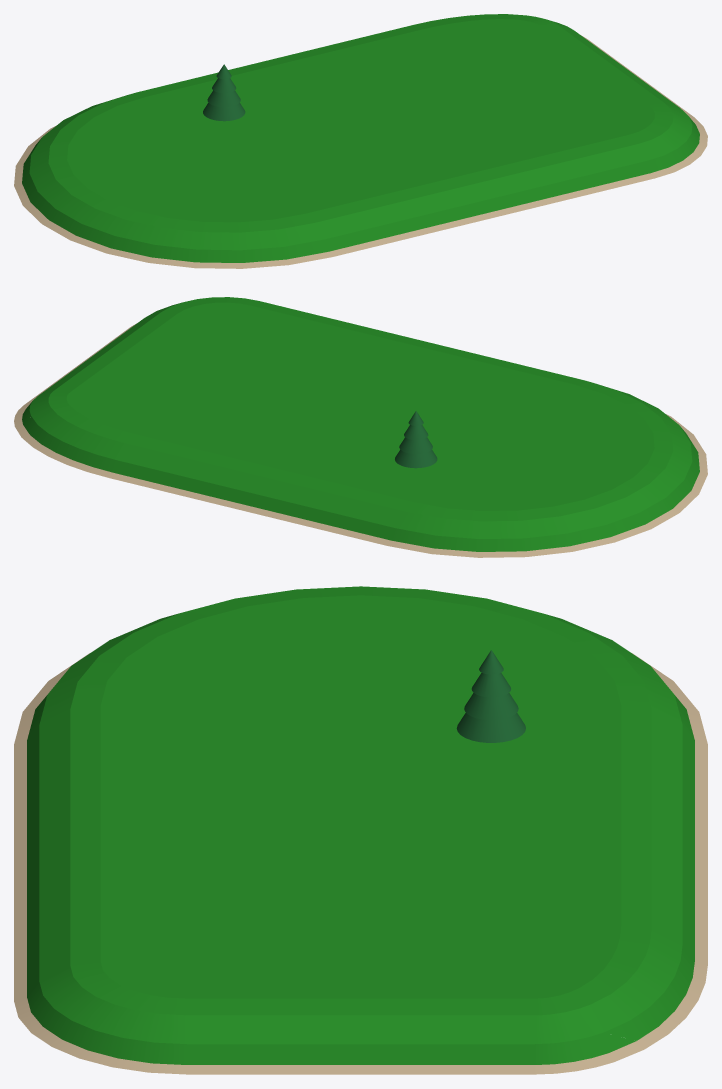
File: racetrack_grass_plain.glb
3 views of the same model, one above another, from view 1: azimuth 30°, elevation 25°; view 2: azimuth 150°, elevation 25°; view 3: azimuth 270°, elevation 25° (orthographic). The views are drawn at different scales.
Visible parts, largest first — view 1: Terrain_Hill_Center_Grass_1x1.012; view 2: Terrain_Hill_Center_Grass_1x1.012; view 3: Terrain_Hill_Center_Grass_1x1.012.
Part boxes in pixels (bbox=[...]): Terrain_Hill_Center_Grass_1x1.012: bbox=[14, 14, 707, 268]; Terrain_Hill_Center_Grass_1x1.012: bbox=[14, 297, 707, 557]; Terrain_Hill_Center_Grass_1x1.012: bbox=[14, 586, 707, 1074].
Bounding box in the file's own units: 13 × 1.59 × 8.
